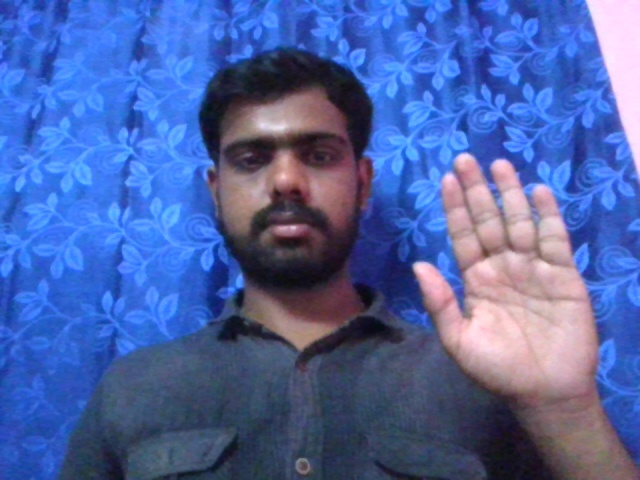Hello: (415, 152, 598, 389)
